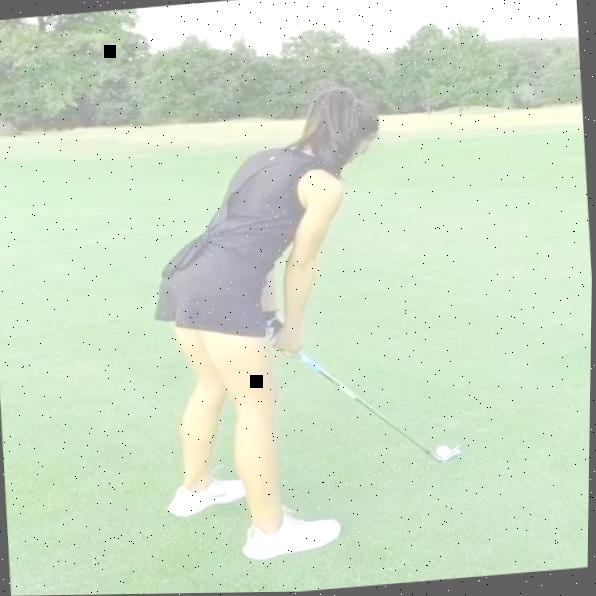ClubHead: (442, 446, 463, 466)
GolfBall: (437, 446, 453, 460)
